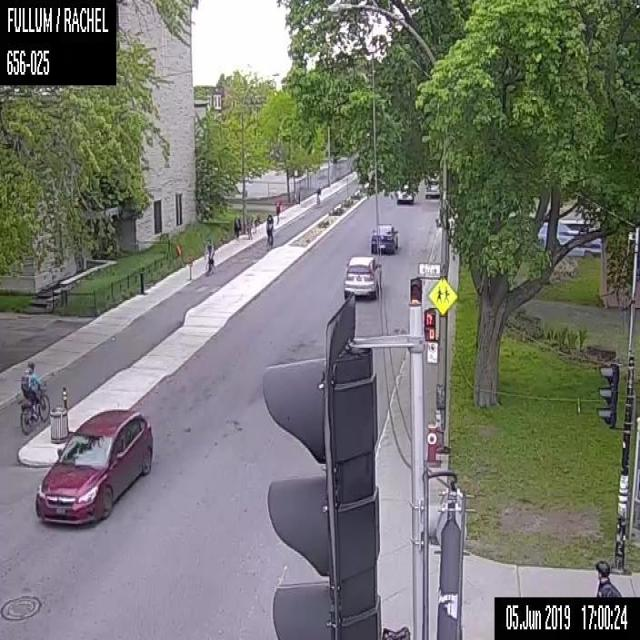cyclist: (18, 360, 51, 435), (203, 237, 214, 274), (265, 213, 273, 247), (316, 184, 320, 204)
pedestrian: (594, 558, 622, 598), (233, 212, 241, 240), (275, 200, 279, 223)
vehicle: (35, 409, 153, 523), (343, 255, 381, 298), (370, 222, 398, 254), (396, 184, 413, 203), (424, 178, 439, 198)
